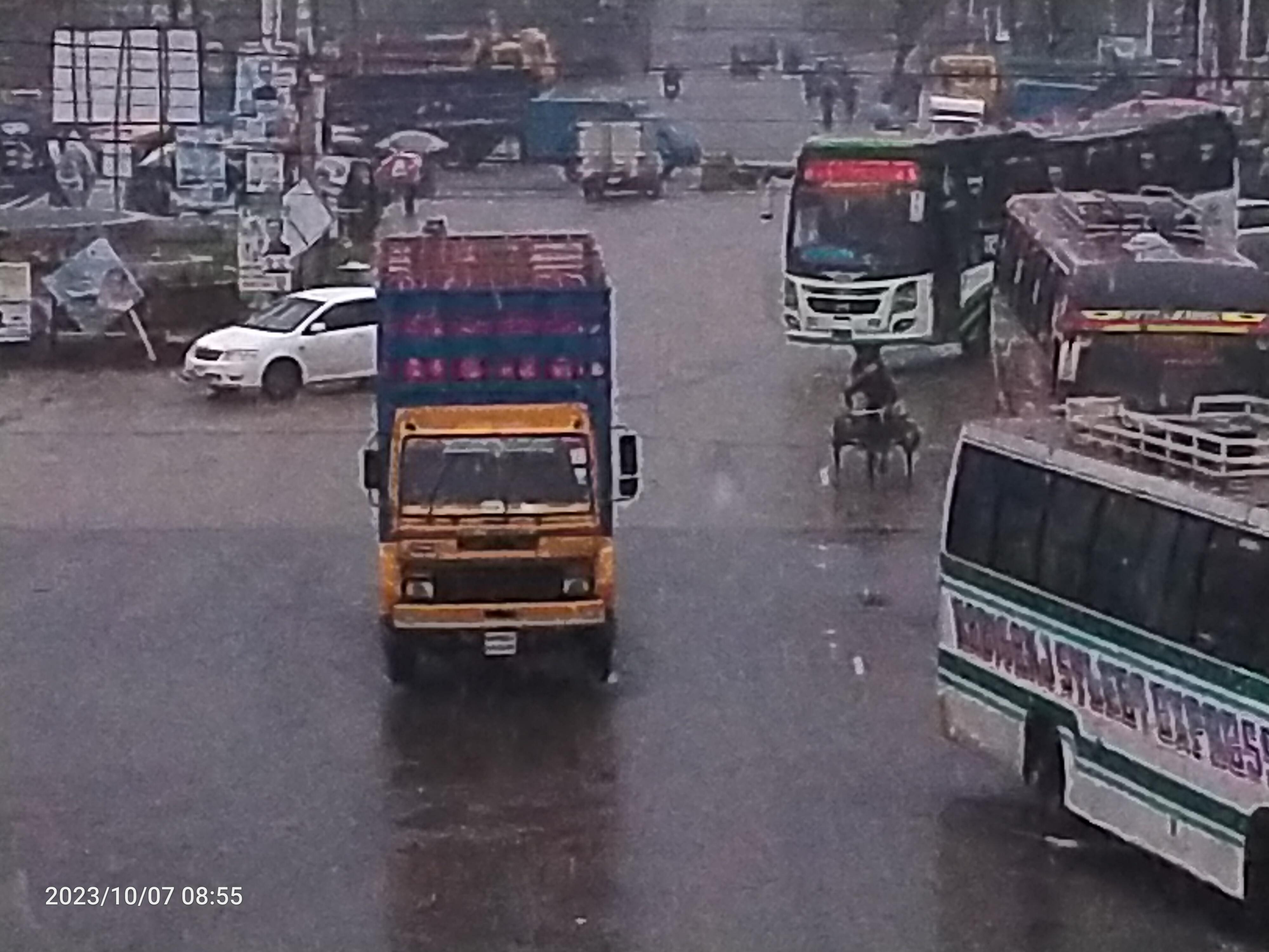Bus: (902, 367, 1269, 952), (970, 166, 1269, 450), (731, 99, 1033, 355)
Car: (113, 263, 414, 415)
Truck: (341, 210, 665, 727), (305, 31, 559, 170), (549, 102, 696, 211)
